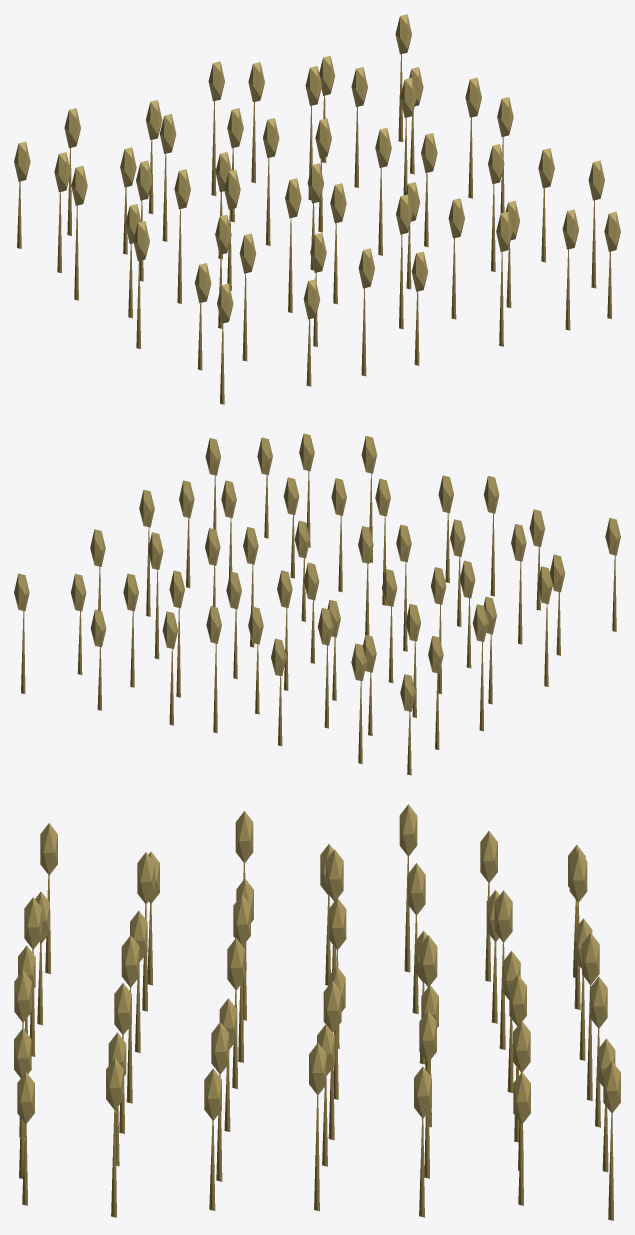
The picture shows the model from 3 angles, top to bottom: view 1: azimuth 30°, elevation 25°; view 2: azimuth 150°, elevation 25°; view 3: azimuth 270°, elevation 25°; orthographic projection. The views are drawn at different scales.
Parts seen in each view (by area): view 1: alpine-body; view 2: alpine-body; view 3: alpine-body.
Boxes of the visible parts, bbox=[...] form: alpine-body: bbox=[14, 14, 620, 404]; alpine-body: bbox=[14, 433, 620, 775]; alpine-body: bbox=[14, 804, 620, 1220].
Bounding box in the file's own units: 3.85 × 1.16 × 3.83.
